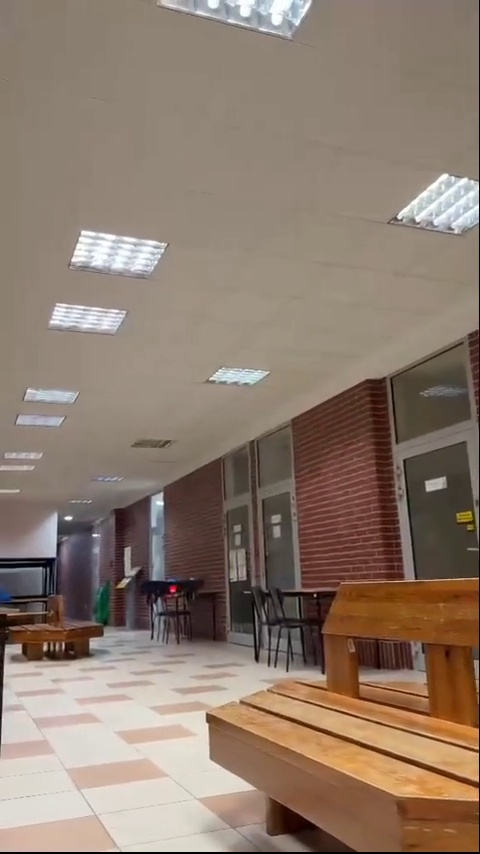drone: (139, 577, 203, 602)
